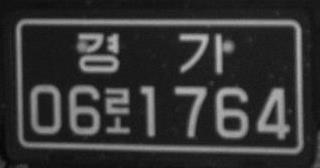0: (29, 82, 62, 136)
1: (135, 84, 161, 138)
4: (255, 86, 291, 141)
6: (214, 85, 249, 140), (67, 83, 101, 137)
7: (173, 83, 208, 138)
경기_D: (76, 31, 222, 75)
로: (103, 85, 132, 134)
